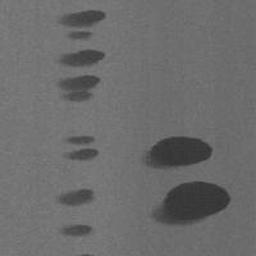Oil spot: (150, 179, 233, 228), (138, 134, 215, 172), (54, 8, 108, 42), (55, 73, 102, 105), (60, 134, 101, 163), (52, 49, 108, 69), (51, 187, 97, 209), (55, 223, 95, 237), (76, 253, 95, 256)
